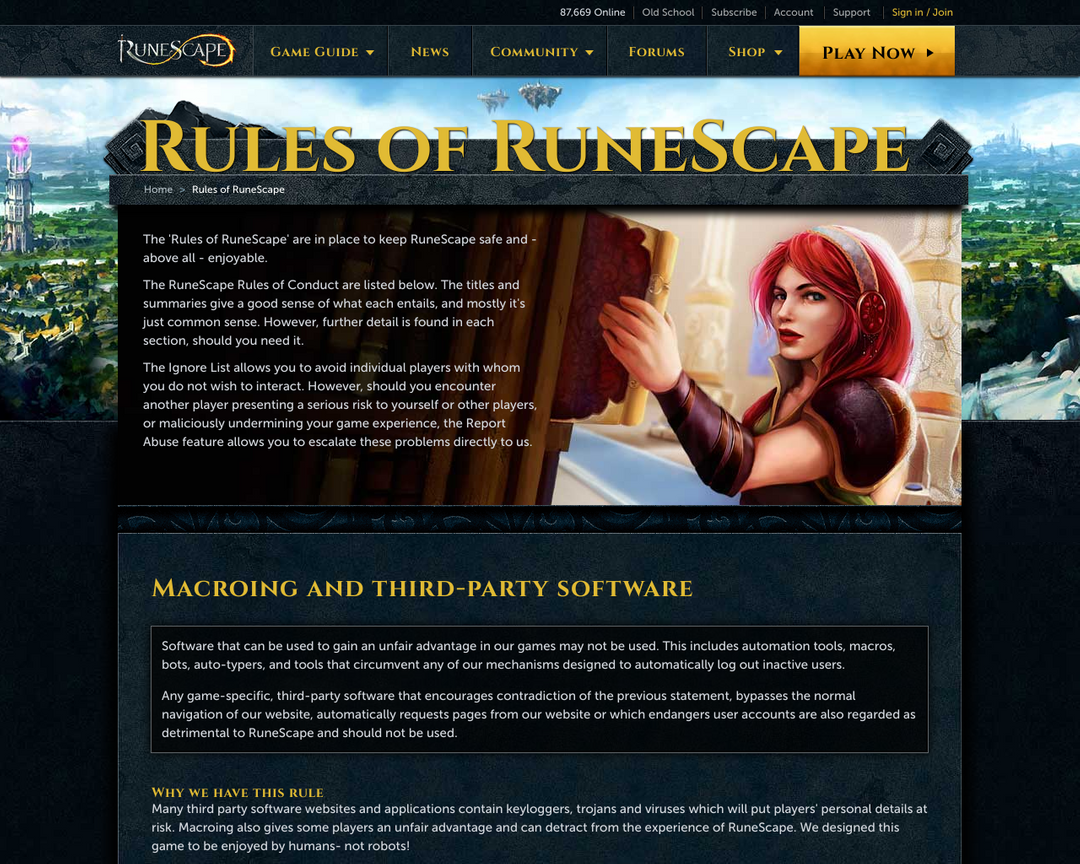Runescape: (108, 28, 239, 69)
